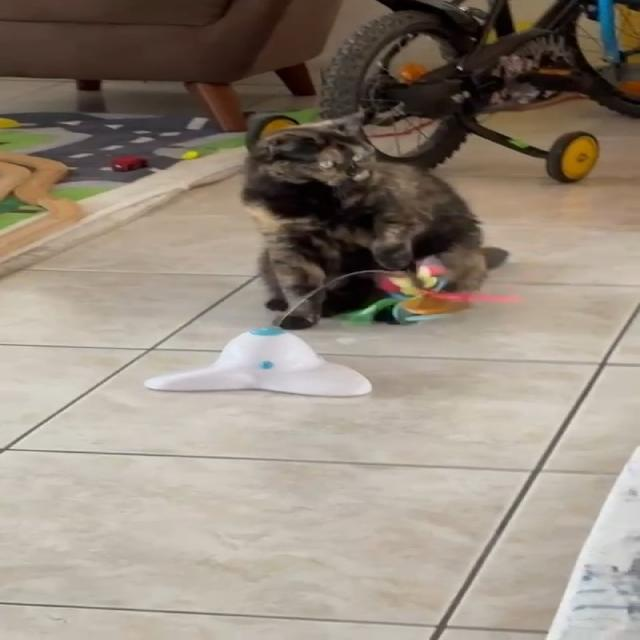authorized: (239, 105, 508, 329)
